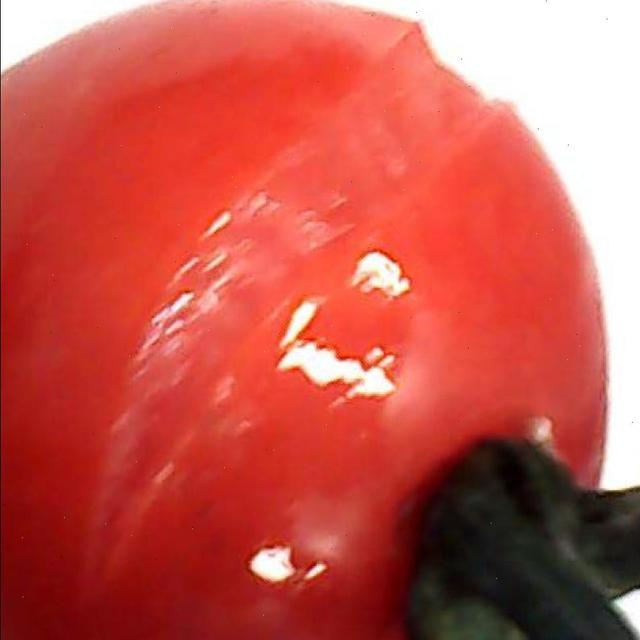Cracking Fruit: (48, 0, 343, 408)
